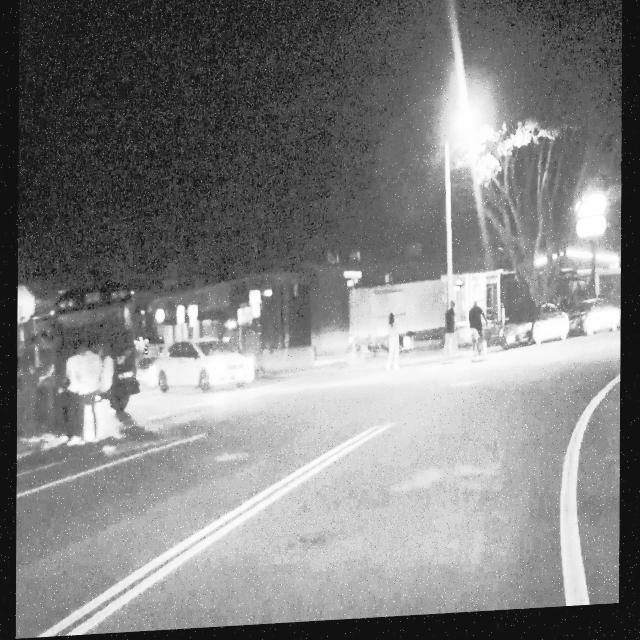Car: (161, 336, 253, 389)
Truck: (349, 285, 462, 355)
